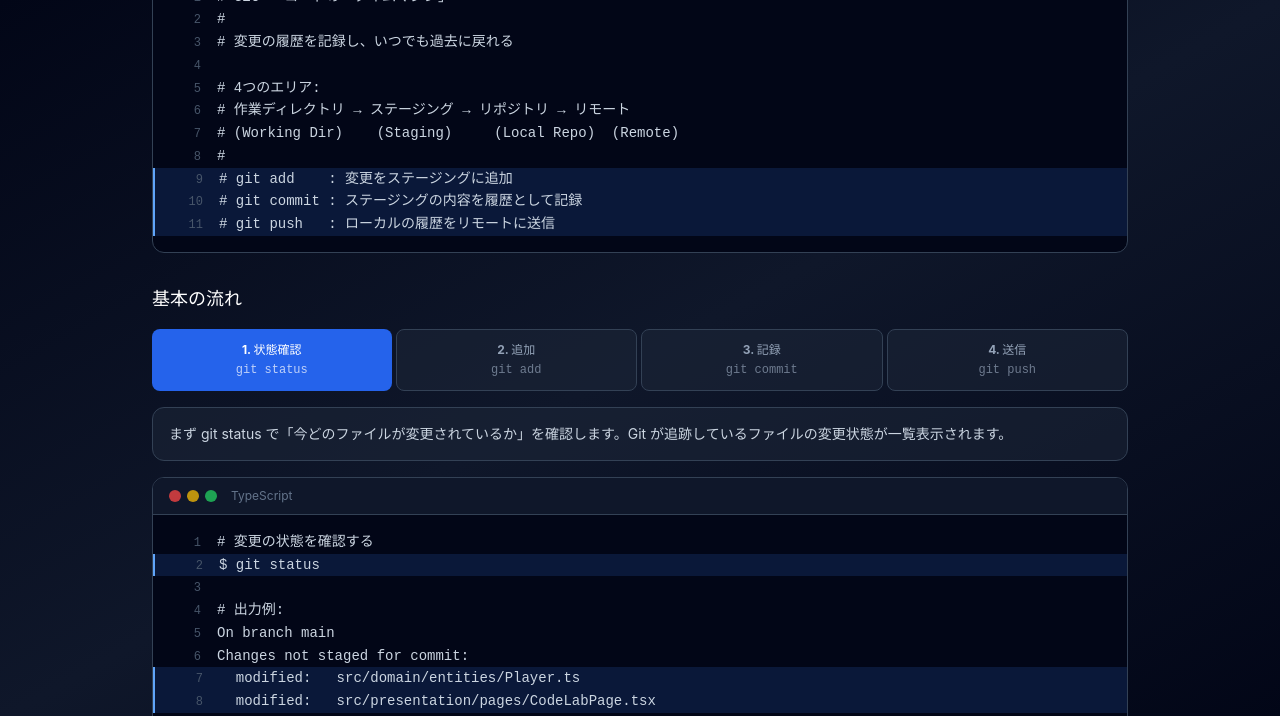
Test: GitBasicsLesson interactions › should switch to Push step
(page scrolled)
Click the button "4. 送信 git push": (1007, 360) [886,329,1128,391]
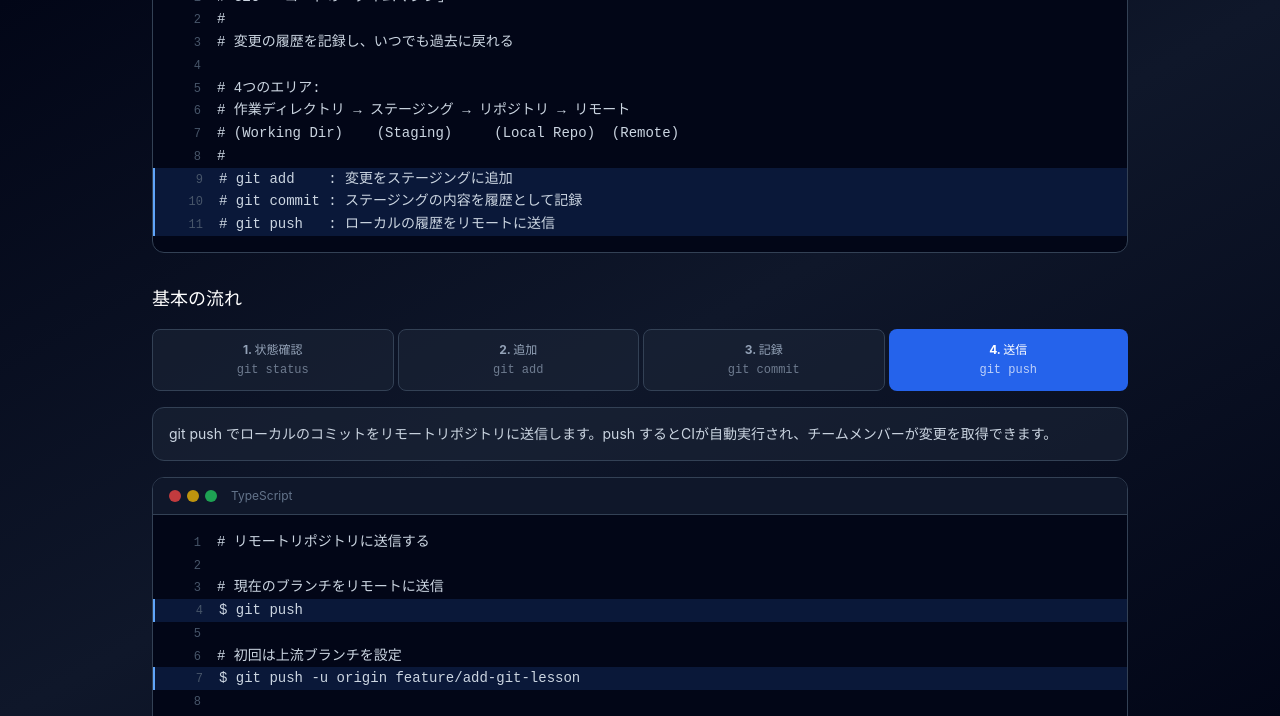
expect the text "ローカルのコミットをリモートリポジトリに" is shown: met, box [169,425,1057,442]
